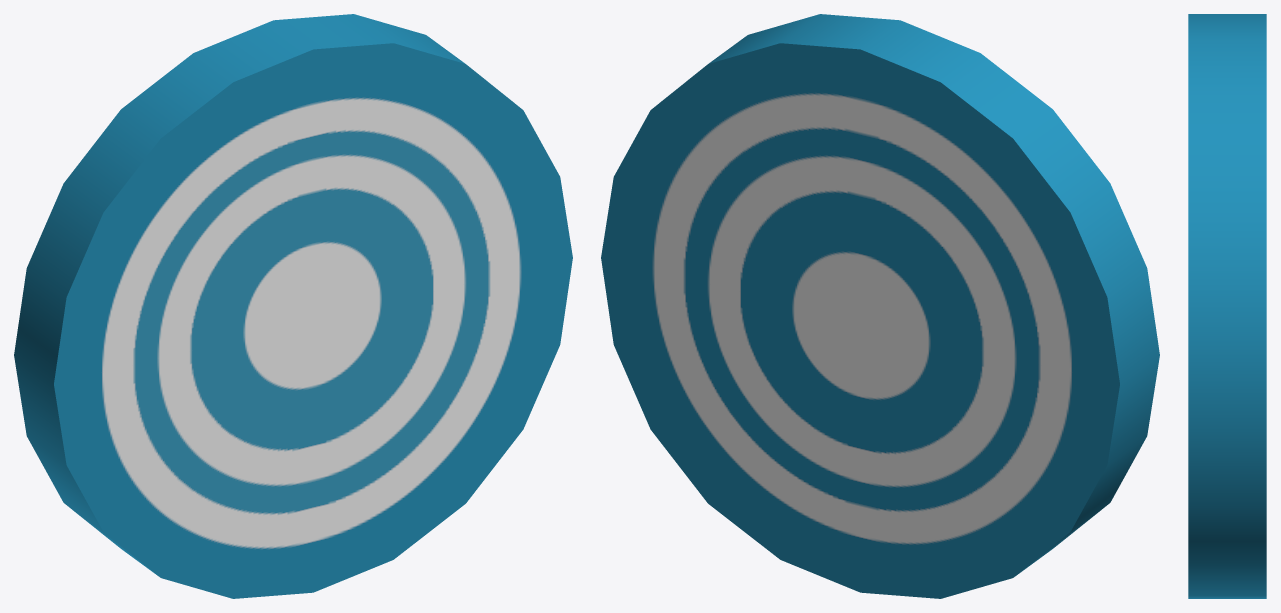
File: Enemy_Target_Ver2.fbx
The picture shows the model from 3 angles, left to right: view 1: azimuth 30°, elevation 25°; view 2: azimuth 150°, elevation 25°; view 3: azimuth 270°, elevation 25°; orthographic projection.
Parts seen in each view (by area): view 1: pCylinder1; view 2: pCylinder1; view 3: pCylinder1.
Part boxes in pixels (x1,y1,x2,y2): pCylinder1: (14, 14, 572, 598); pCylinder1: (601, 14, 1159, 598); pCylinder1: (1188, 14, 1266, 598).
Bounding box in the file's own units: 2 × 2 × 0.266.
1 material, 1 textured.
